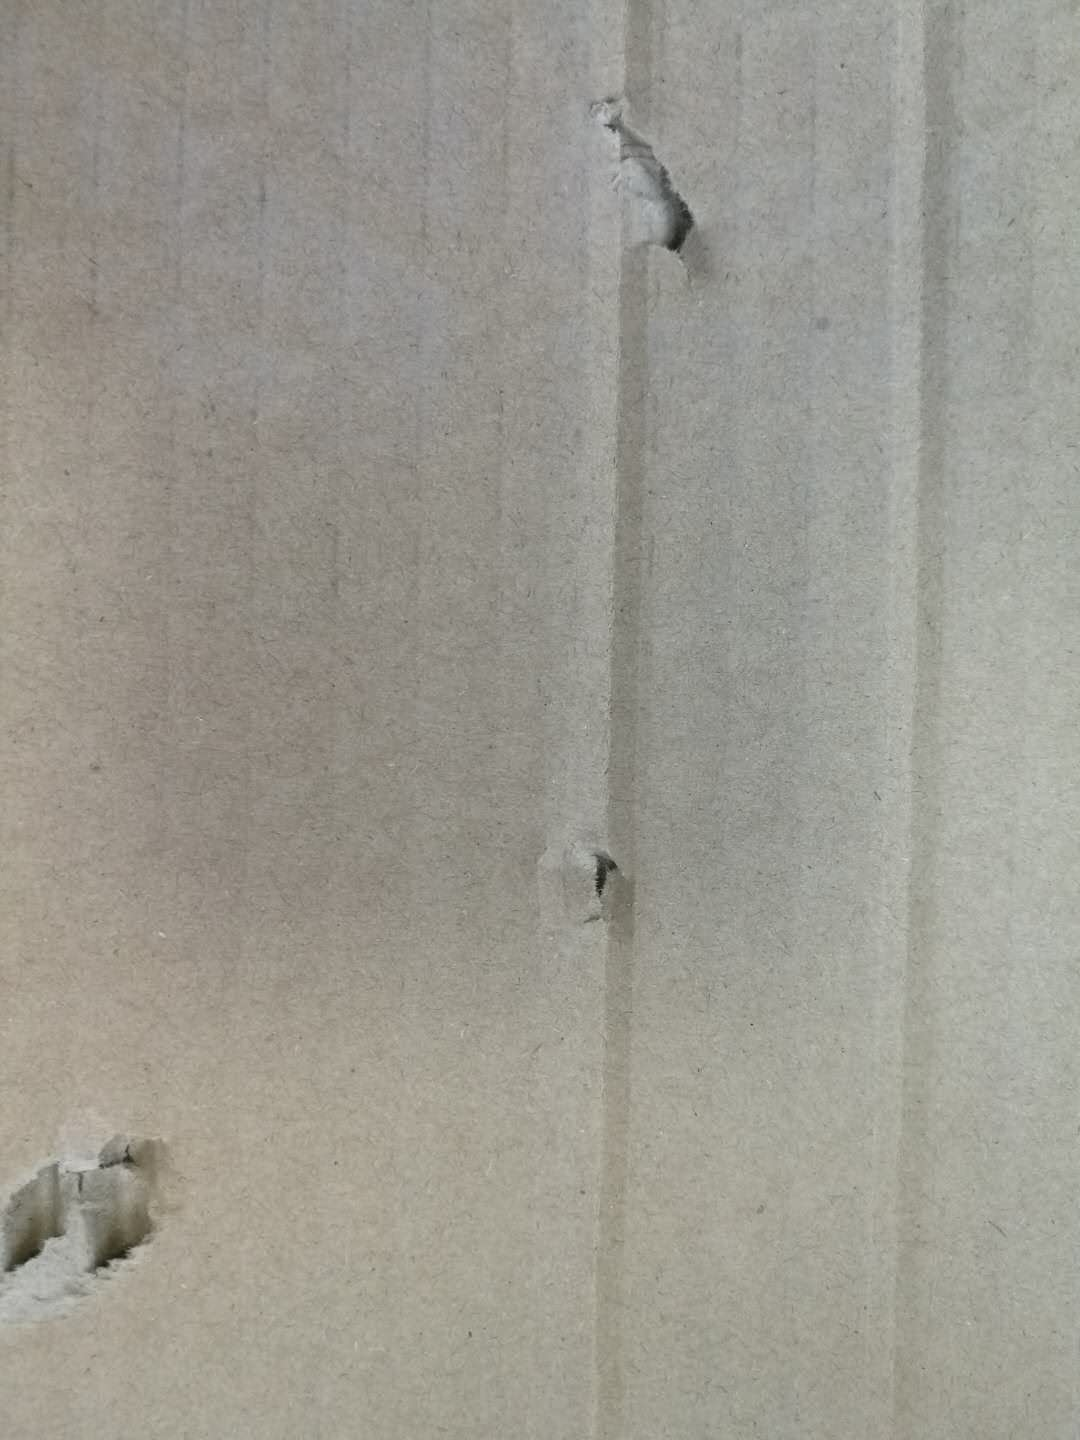defect: (518, 5, 752, 1439), (842, 5, 987, 1440), (2, 1087, 219, 1353), (562, 82, 765, 327), (522, 819, 663, 956)
